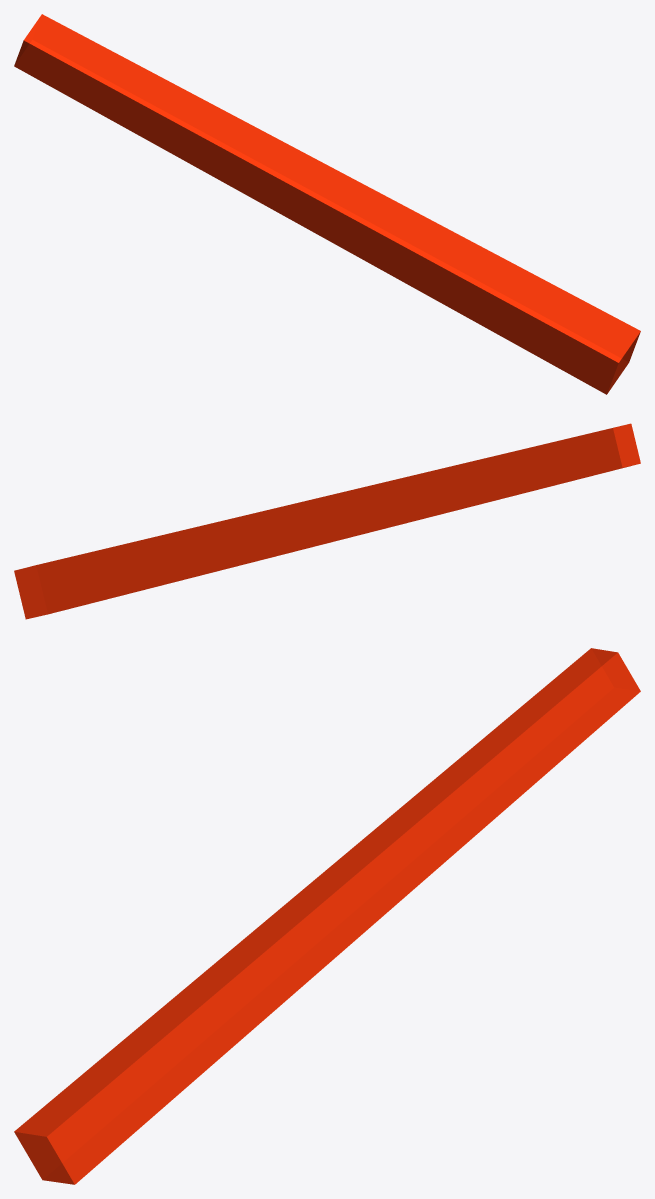
Rendered from Event_421556567_EBrechit_18.fbx.
3 renders of one model, top to bottom at view 1: azimuth 30°, elevation 25°; view 2: azimuth 210°, elevation 25°; view 3: azimuth 270°, elevation 25°, orthographic. The views are drawn at different scales.
Visible parts, largest first — view 1: Model; view 2: Model; view 3: Model.
Part boxes in pixels (x1=…): Model: x1=14, y1=14, x2=640, y2=394; Model: x1=14, y1=423, x2=640, y2=619; Model: x1=14, y1=648, x2=640, y2=1184.
Size of the model in its own units: 0.6095 by 0.4241 by 0.7111.
